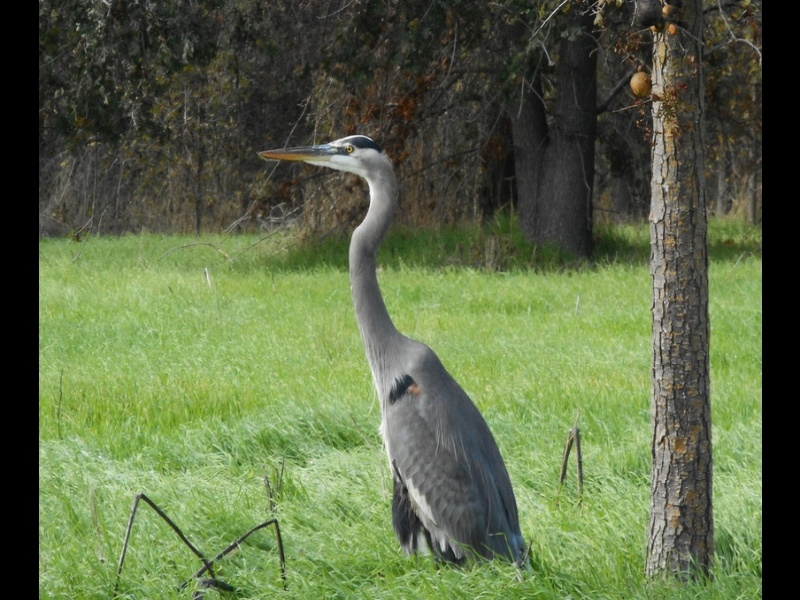heron: (255, 133, 538, 570)
